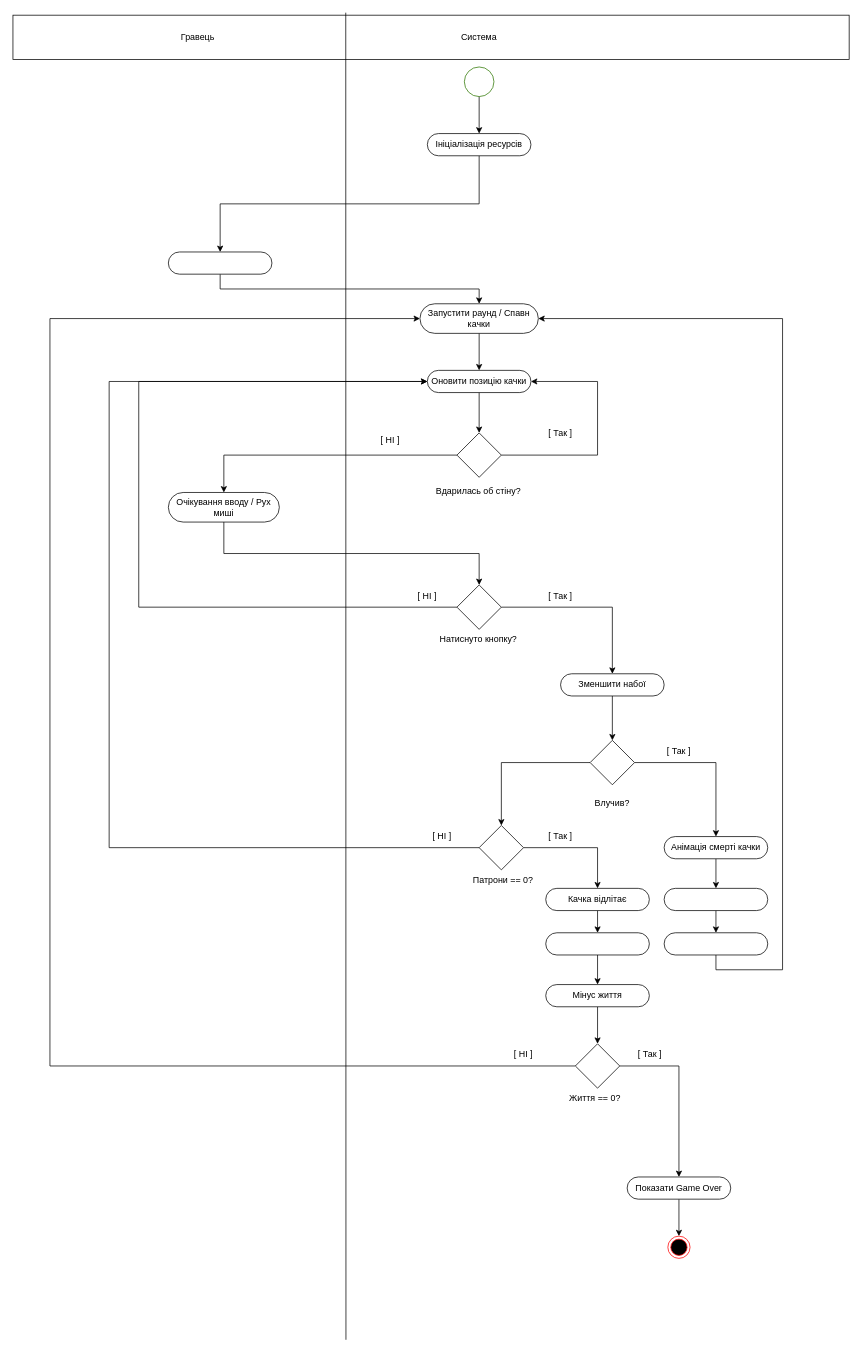
Image size: 862x1354. Some labels were removed from this diagram. Each missing label, with the box of its shape:
Нарахувати бали: (663, 932, 768, 955)
Натиснути Start: (168, 251, 272, 274)
Показати собаку зі здобиччю: (663, 888, 768, 911)
Собака сміється: (545, 932, 649, 955)
